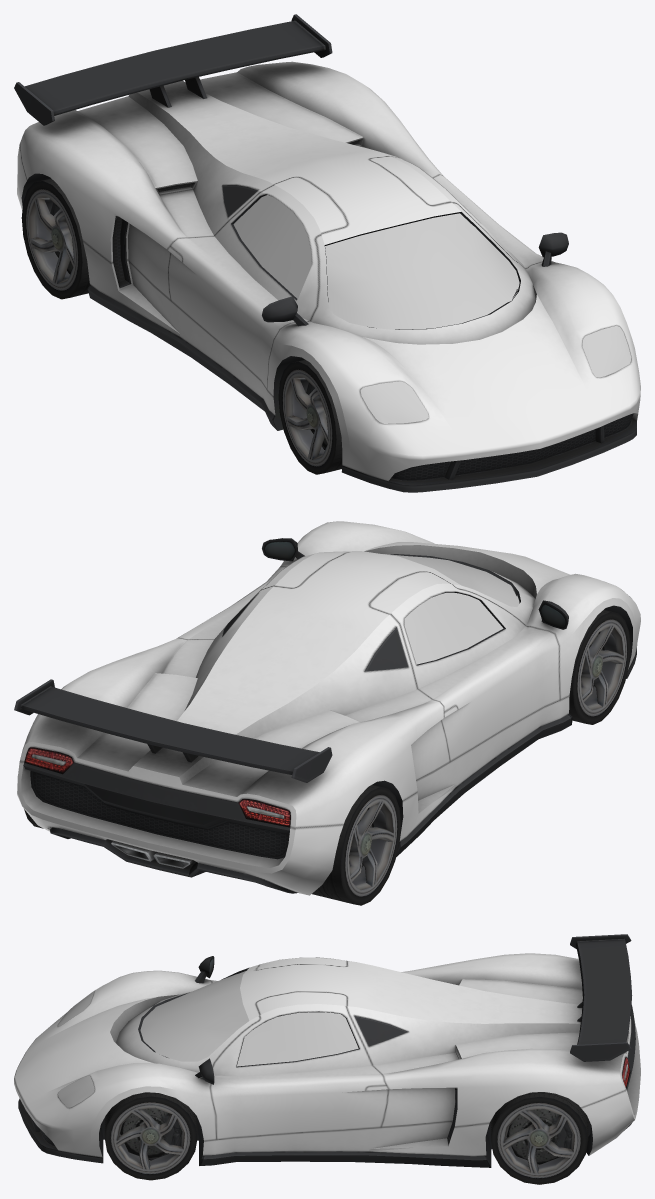
3 renders of one model, top to bottom at view 1: azimuth 30°, elevation 25°; view 2: azimuth 150°, elevation 25°; view 3: azimuth 270°, elevation 25°, orthographic. The views are drawn at different scales.
Visible parts, largest first — view 1: Body_22, Matte_22, Glass_22, Wheel_Back_R, Wheel_R, Glass_light; view 2: Body_22, Matte_22, Glass_22, Wheel_Back_R, Wheel_R, Taillights_22; view 3: Body_22, Matte_22, Glass_22, Wheel_Back_L, Wheel_L, break_L, Glass_light.
Boxes of the visible parts, x1,y1,x2,y2 form: Body_22: [17, 61, 640, 481]; Matte_22: [14, 14, 636, 492]; Glass_22: [233, 195, 519, 329]; Wheel_Back_R: [21, 178, 89, 299]; Wheel_R: [278, 359, 342, 474]; Glass_light: [360, 325, 631, 423]; Body_22: [17, 521, 640, 895]; Matte_22: [14, 538, 636, 893]; Glass_22: [383, 554, 519, 664]; Wheel_Back_R: [312, 785, 400, 905]; Wheel_R: [569, 610, 630, 724]; Taillights_22: [24, 747, 290, 827]; Body_22: [14, 953, 640, 1157]; Matte_22: [18, 934, 635, 1167]; Glass_22: [140, 971, 358, 1066]; Wheel_Back_L: [491, 1092, 588, 1184]; Wheel_L: [104, 1092, 197, 1180]; break_L: [120, 1108, 182, 1160]; Glass_light: [58, 991, 94, 1107].
Size of the model in its own units: 82.84 by 45.39 by 176.
